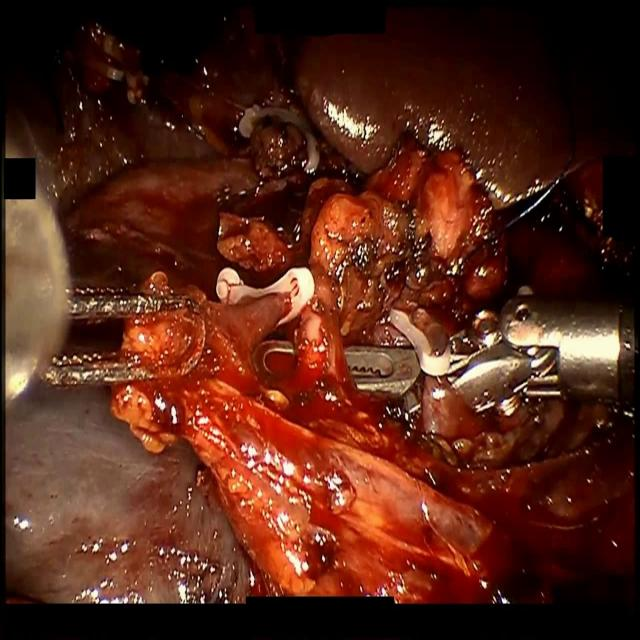surgical-area: (5, 1, 640, 605)
surgical-tool: (252, 296, 640, 420), (34, 280, 206, 385)
